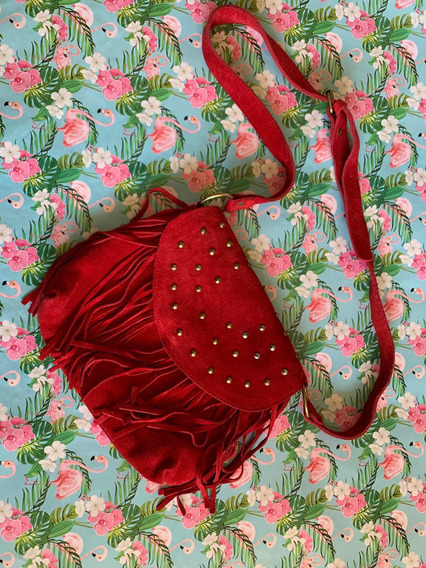cartera: (32, 202, 308, 489)
